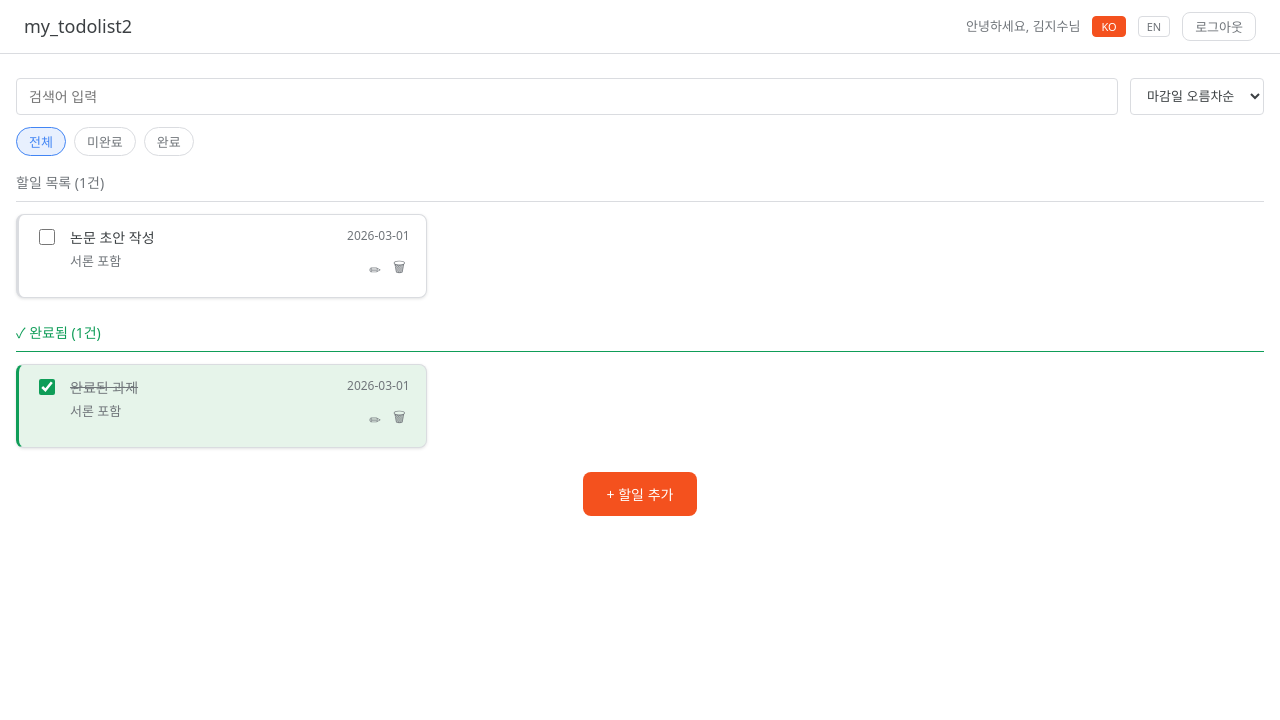
Test case: FE-11: 할일 삭제 › 삭제 버튼 클릭 시 삭제 확인 다이얼로그가 열린다
Expected: the text "논문 초안 작성" is shown, [70,228,155,247]
Click the button named "삭제" at (399, 269), box [389,253,410,285]
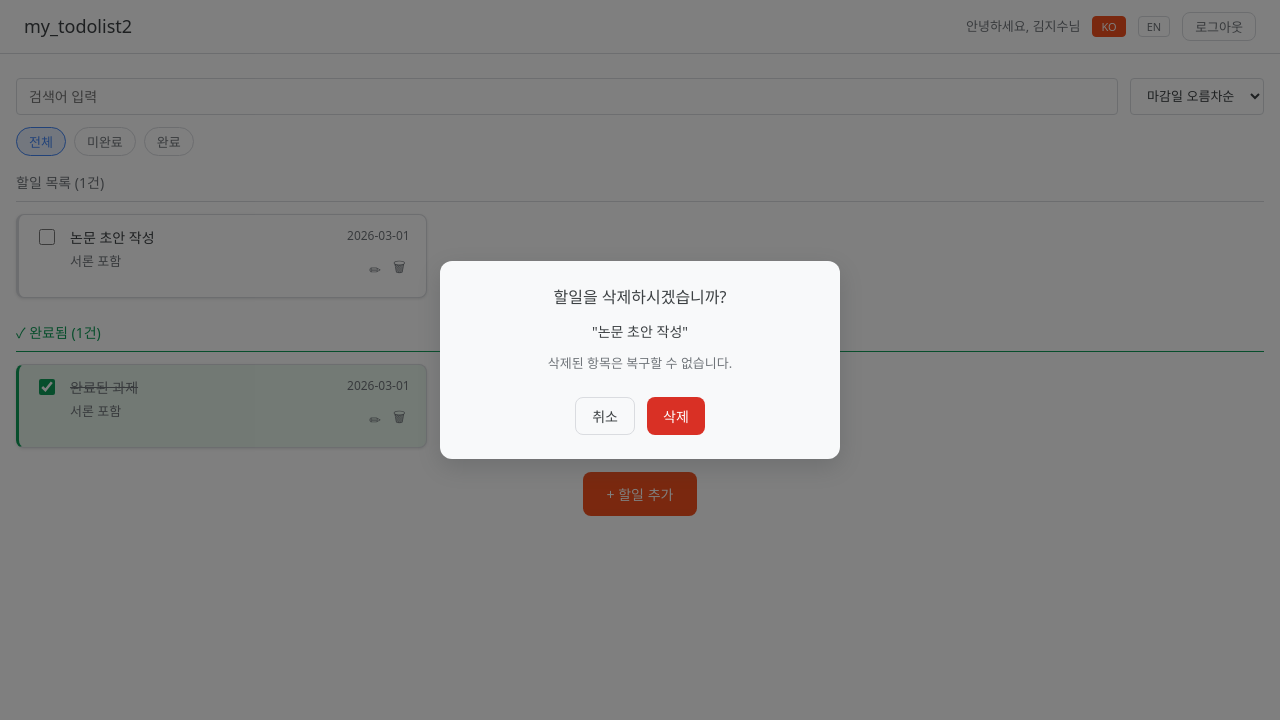
Now the text "할일을 삭제하시겠습니까?" is shown, box [554,286,726,308]
Now the text "\"논문 초안 작성\"" is shown, box [592,322,688,341]
Now the text "삭제된 항목은 복구할 수 없습니다." is shown, box [548,354,732,372]
